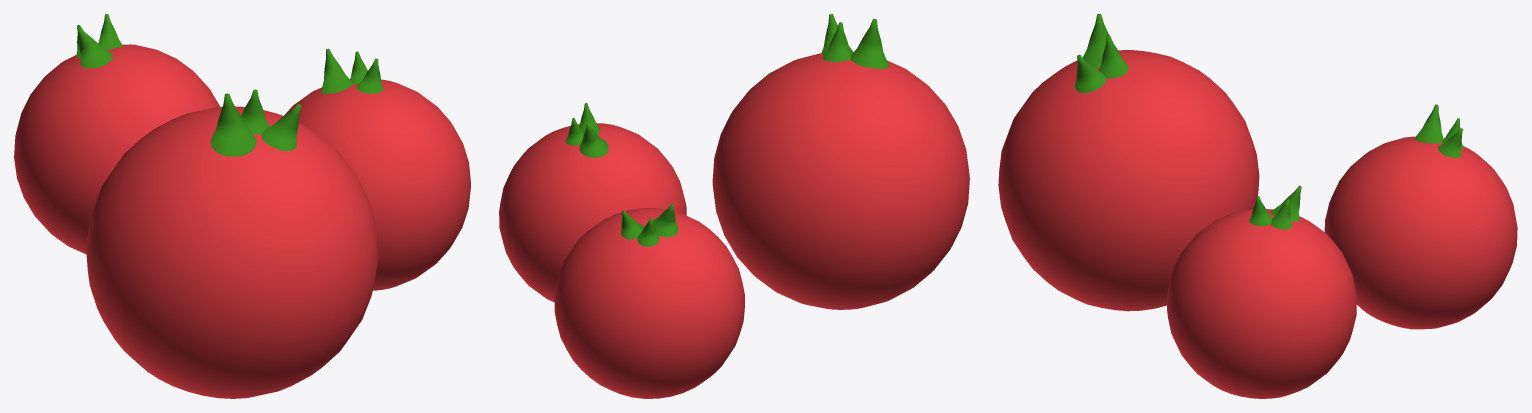
File: TomatoColor.fbx
The picture shows the model from 3 angles, left to right: view 1: azimuth 30°, elevation 25°; view 2: azimuth 150°, elevation 25°; view 3: azimuth 270°, elevation 25°; orthographic projection. The views are drawn at different scales.
Visible parts, largest first — view 1: TomatoColor; view 2: TomatoColor; view 3: TomatoColor.
Boxes of the visible parts, box(x1,y1,x2,y2) form: TomatoColor: box(14, 14, 470, 398); TomatoColor: box(499, 14, 969, 398); TomatoColor: box(998, 14, 1517, 398).
Size of the model in its own units: 74.57 by 51.77 by 88.19.
